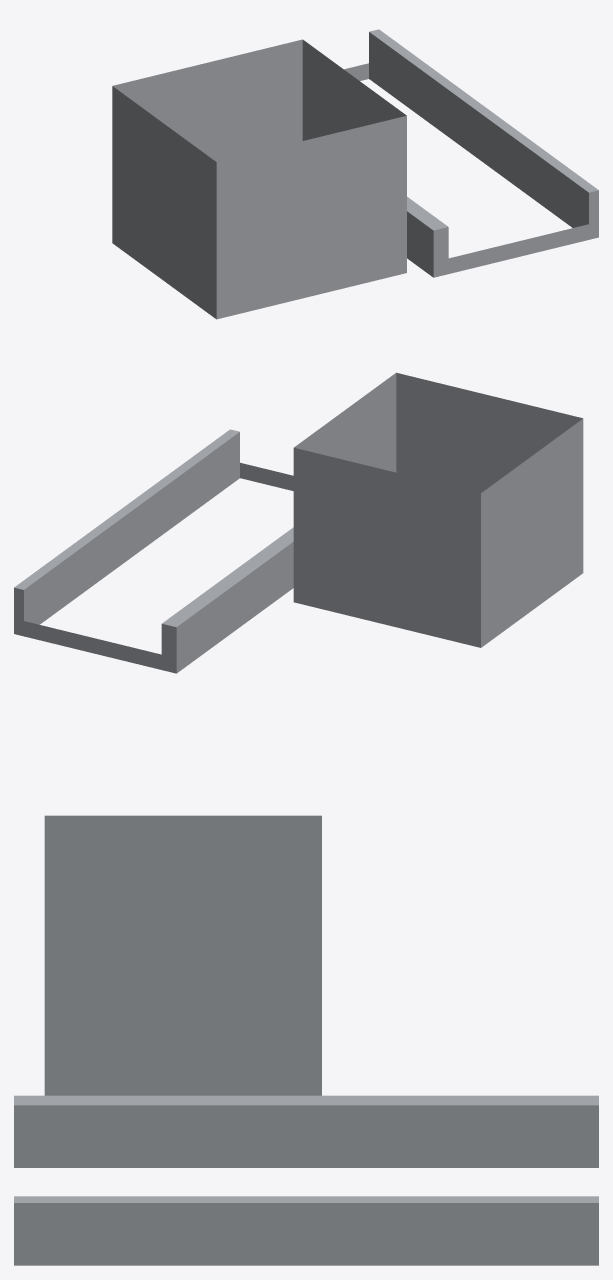
The model's file is Svc_drain.fbx.
3 renders of one model, top to bottom at view 1: azimuth 30°, elevation 25°; view 2: azimuth 150°, elevation 25°; view 3: azimuth 270°, elevation 25°, orthographic. The views are drawn at different scales.
Parts seen in each view (by area): view 1: Svc_drain_LOD0; view 2: Svc_drain_LOD0; view 3: Svc_drain_LOD0.
Boxes of the visible parts, x1,y1,x2,y2 form: Svc_drain_LOD0: (112,29,598,319); Svc_drain_LOD0: (14,372,583,673); Svc_drain_LOD0: (14,815,598,1265).
Size of what is drawn, in the model's own units: 760 by 440 by 760.
Materials: 1 (1 with a texture image).
